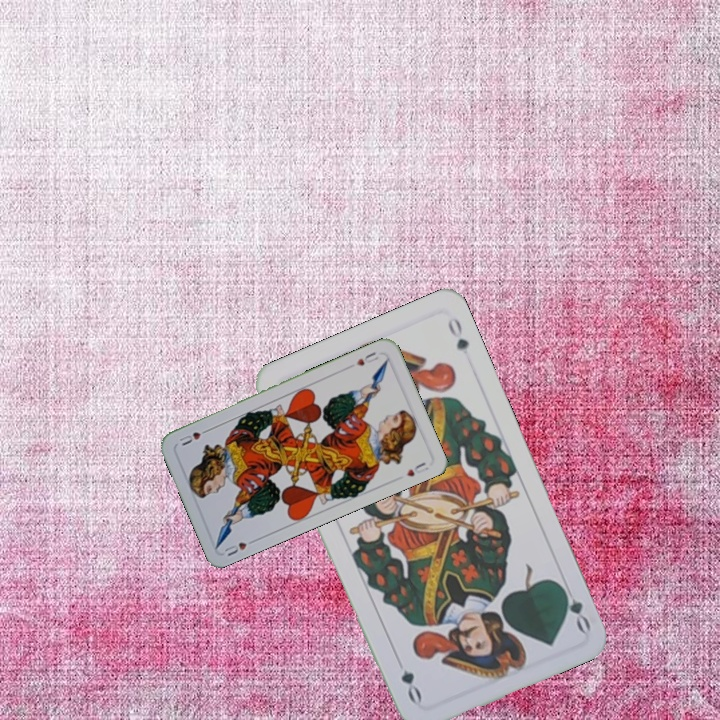GO: (555, 581, 594, 635)
HU: (220, 535, 259, 559), (352, 348, 381, 368)
